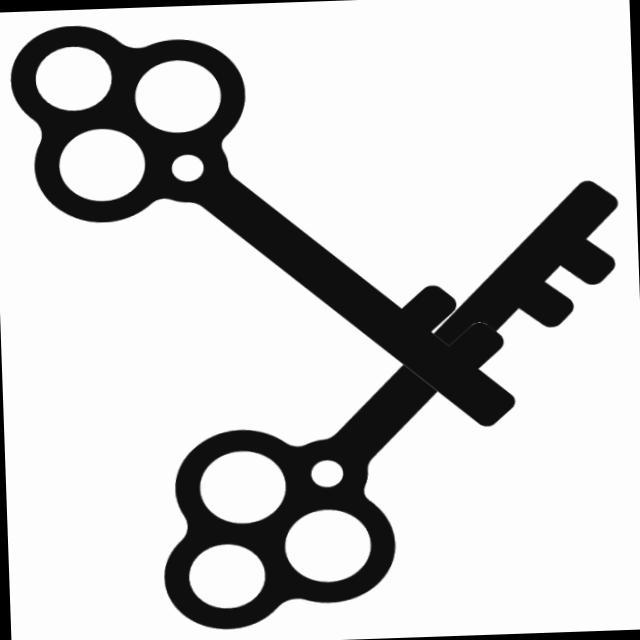key: (1, 3, 531, 451), (145, 169, 640, 637)
